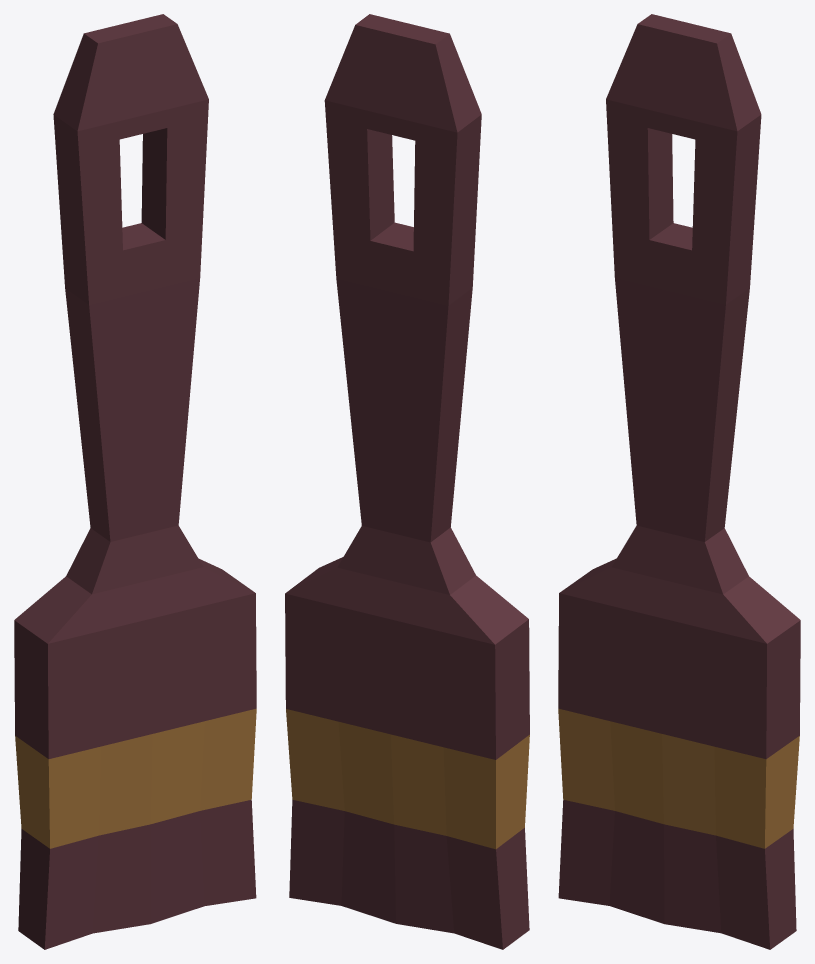
File: tools-brush-straight-medium-paint.glb
3 views of the same model, side by side, from view 1: azimuth 30°, elevation 25°; view 2: azimuth 150°, elevation 25°; view 3: azimuth 330°, elevation 25° (orthographic).
Parts seen in each view (by area): view 1: brush-straight-medium-paint; view 2: brush-straight-medium-paint; view 3: brush-straight-medium-paint.
Boxes of the visible parts, <box> form: brush-straight-medium-paint: <box>14,14,256,949</box>; brush-straight-medium-paint: <box>285,14,529,949</box>; brush-straight-medium-paint: <box>558,14,800,949</box>.
Size of the model in its own units: 0.061 by 0.2429 by 0.0172.
